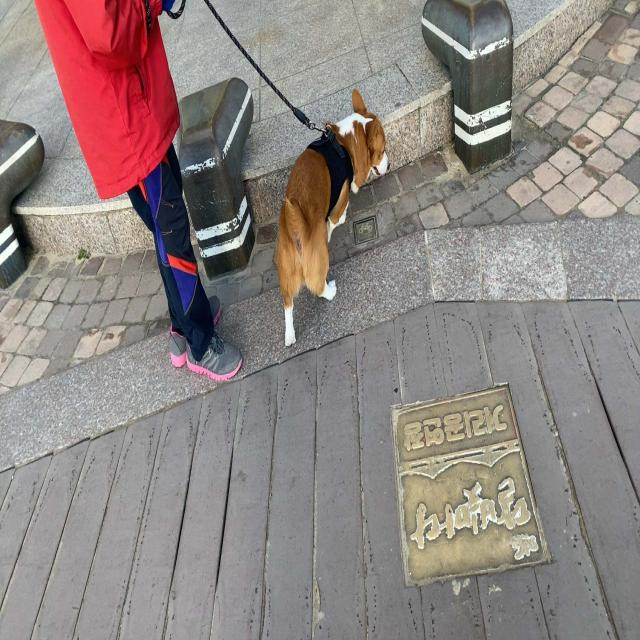Leashed_Dog: (127, 0, 391, 347)
